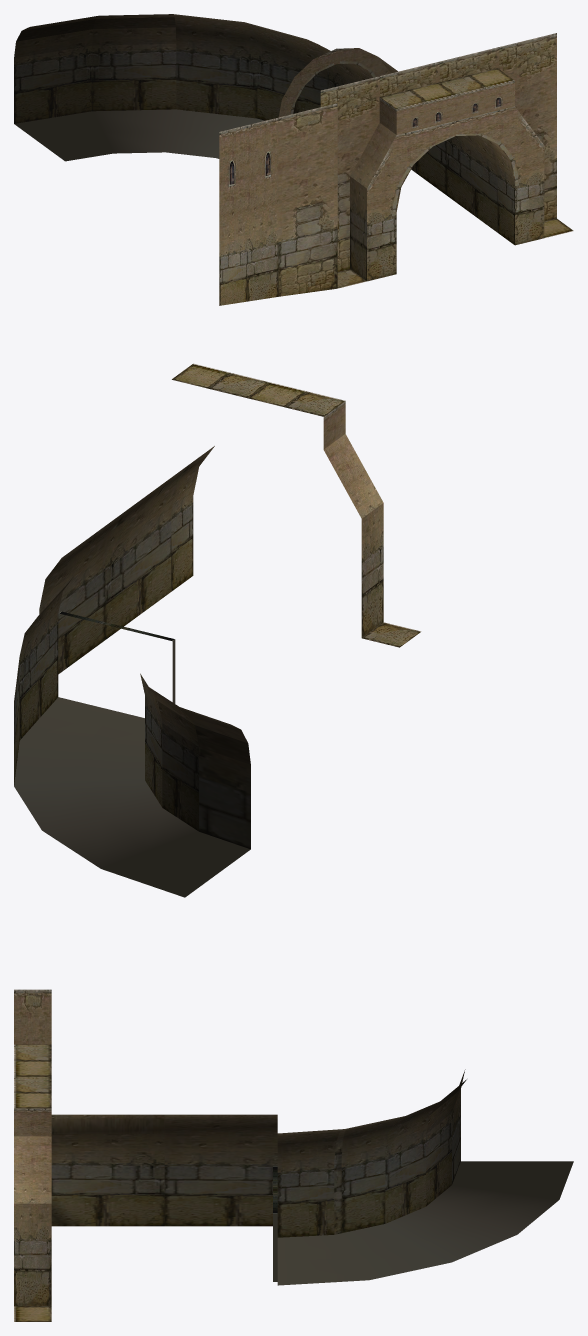
File: M2Zone4_Building06.glb
3 renders of one model, top to bottom at view 1: azimuth 30°, elevation 25°; view 2: azimuth 150°, elevation 25°; view 3: azimuth 270°, elevation 25°, orthographic. The views are drawn at different scales.
Visible parts, largest first — view 1: M2ZONE4_BUILDING06; view 2: M2ZONE4_BUILDING06; view 3: M2ZONE4_BUILDING06.
Part boxes in pixels (<box>): M2ZONE4_BUILDING06: <box>14,14,573,305</box>; M2ZONE4_BUILDING06: <box>14,363,421,897</box>; M2ZONE4_BUILDING06: <box>14,989,573,1321</box>.
Size of the model in its own units: 24 by 12.25 by 29.73.
Materials: 5 (5 with a texture image).
